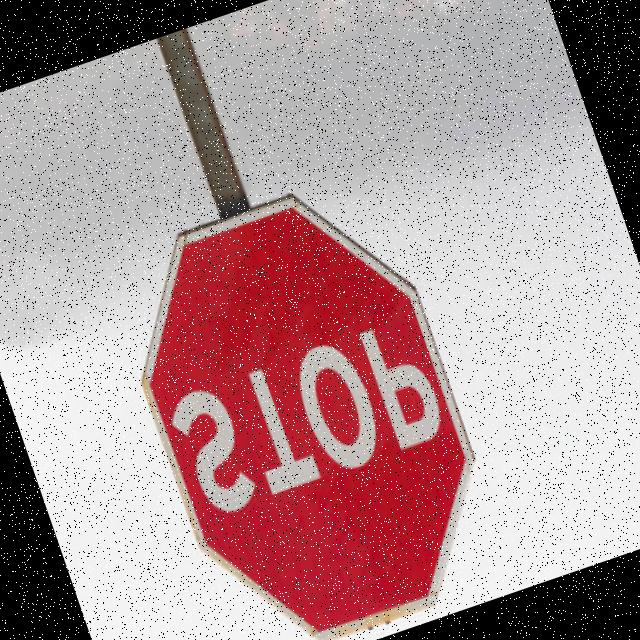stop: (84, 151, 525, 640)
